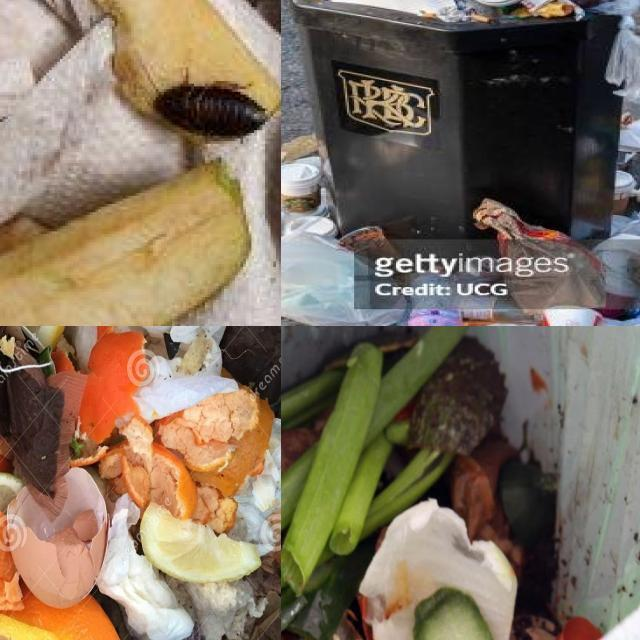Disposable: (281, 163, 322, 215), (330, 0, 455, 14), (542, 307, 602, 326)
Garbage: (281, 326, 610, 640), (0, 326, 281, 640), (281, 149, 640, 326)
Plastic_bottle: (407, 309, 462, 326)
